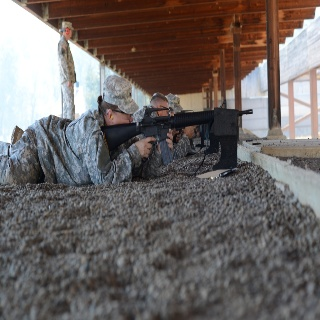rifle: (98, 104, 255, 169)
